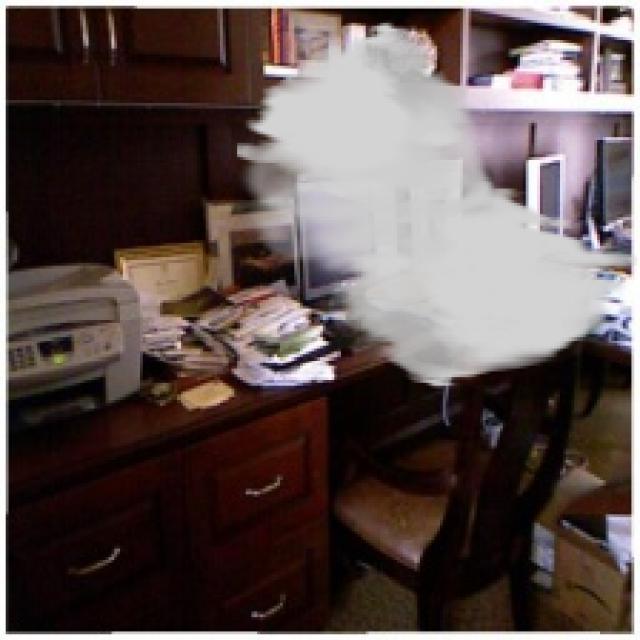smoke: (234, 20, 637, 389)
